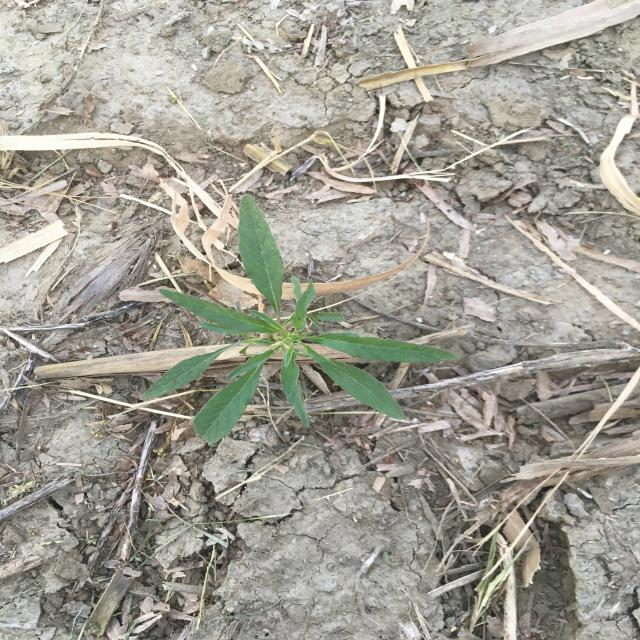Waterhemp: (134, 192, 461, 448)
